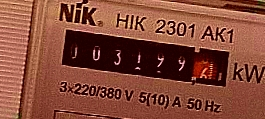0: (65, 38, 79, 60), (88, 40, 102, 61)
1: (132, 44, 143, 64)
3: (109, 45, 122, 65)
6: (198, 63, 209, 80)
9: (152, 47, 165, 68), (173, 51, 186, 71)
screen: (52, 23, 238, 94)
